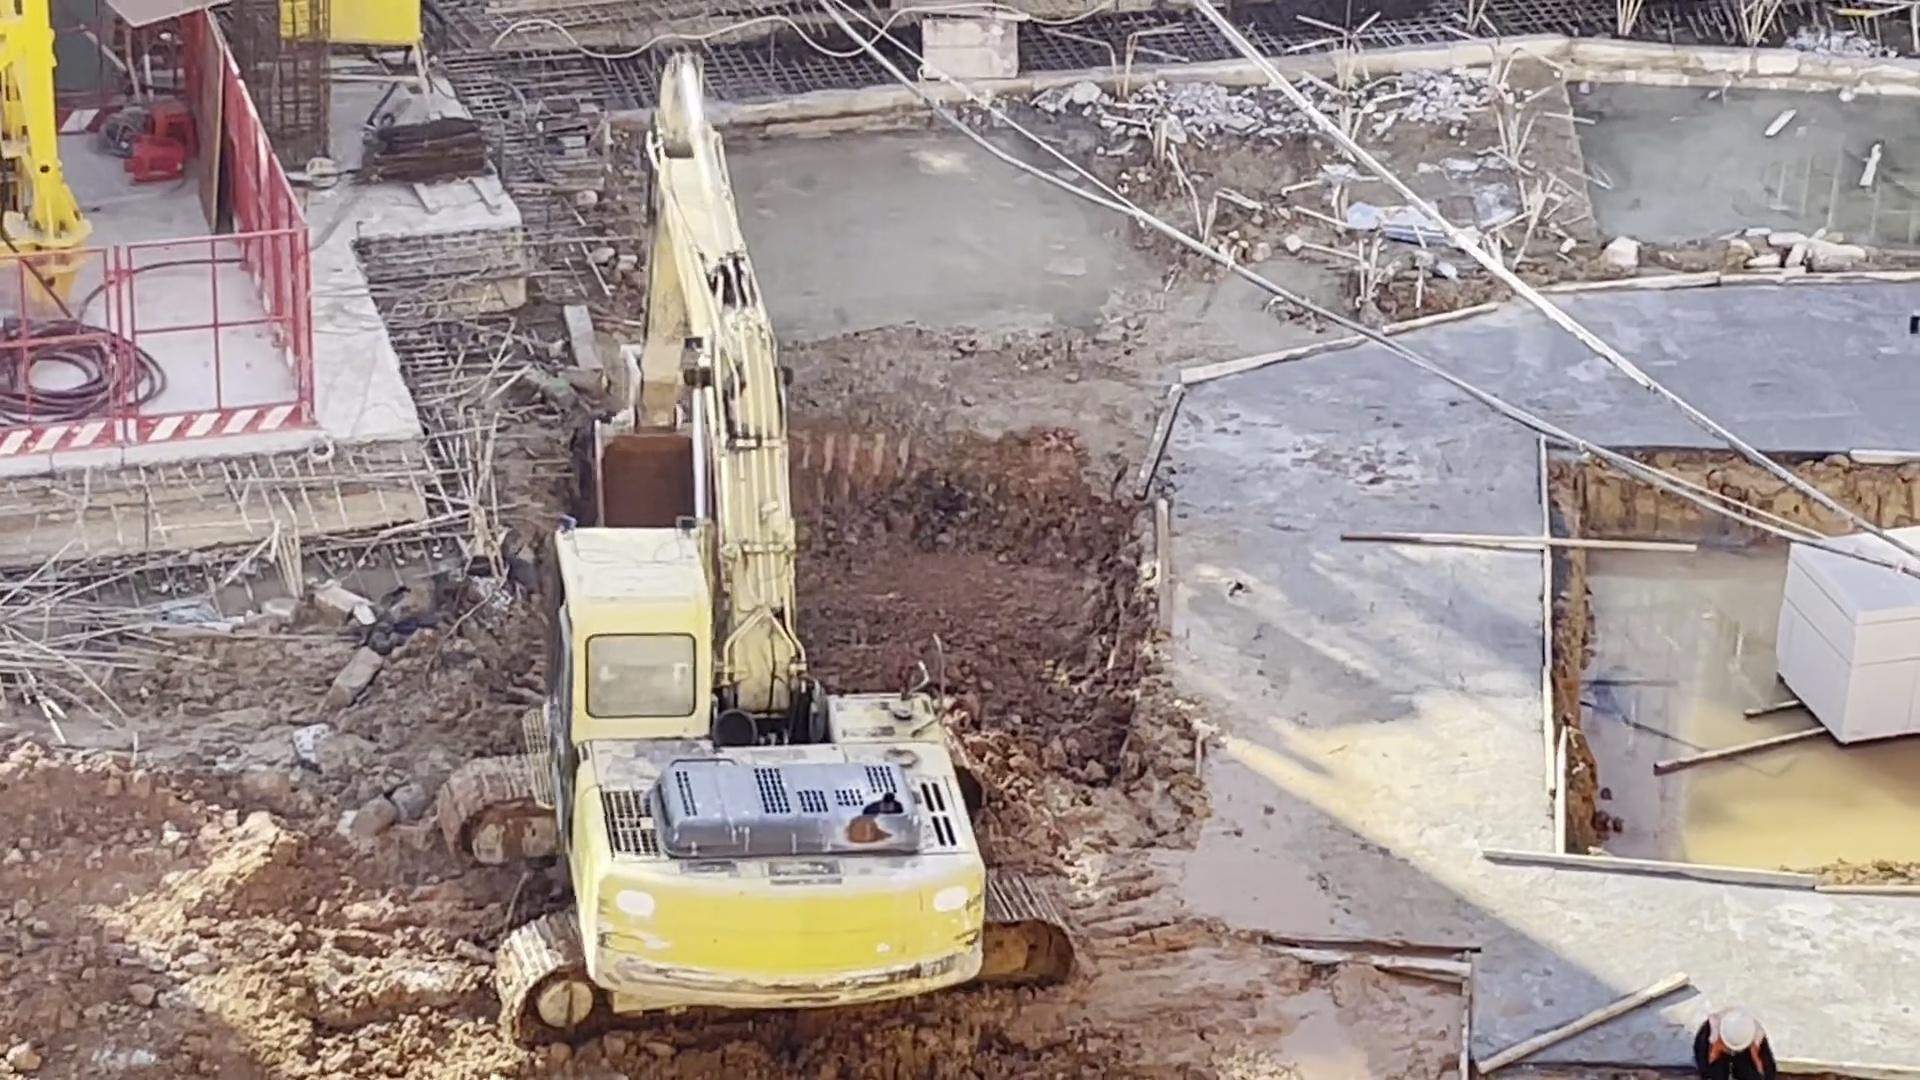brick: (1769, 526, 1920, 745)
ebox: (333, 2, 436, 124)
fence: (3, 231, 315, 453), (225, 46, 315, 426)
helmet: (1717, 1009, 1760, 1052)
person: (1685, 1005, 1781, 1079)
